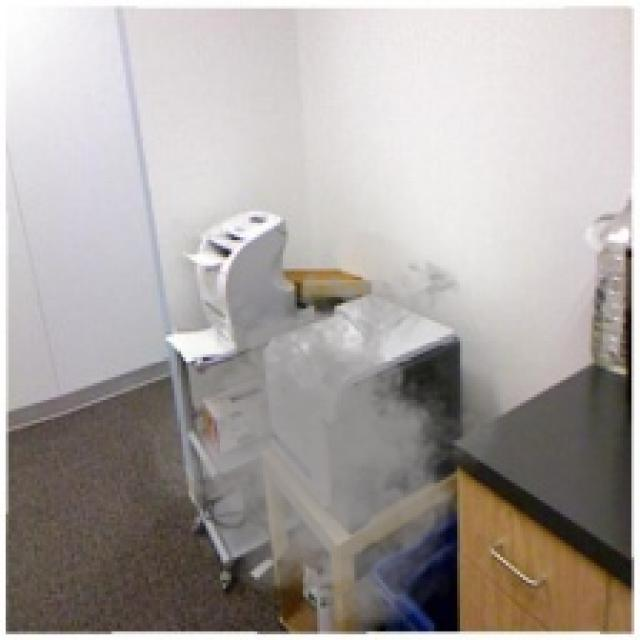smoke: (134, 248, 517, 632)
